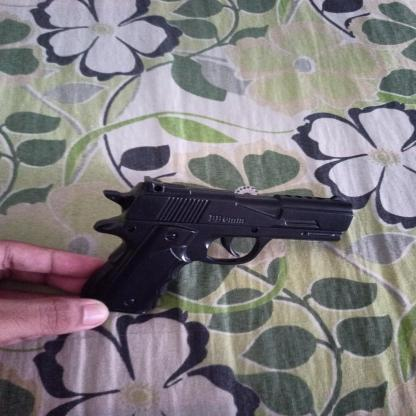handgun: (82, 178, 352, 313)
